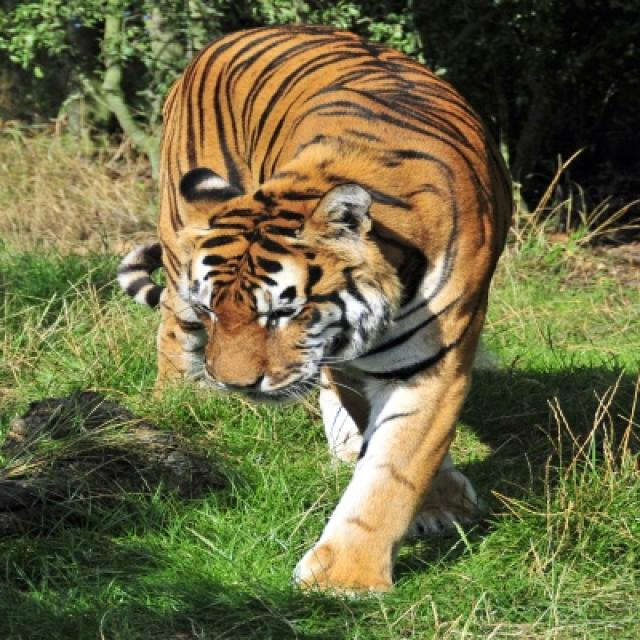Tiger: (117, 27, 509, 590)
